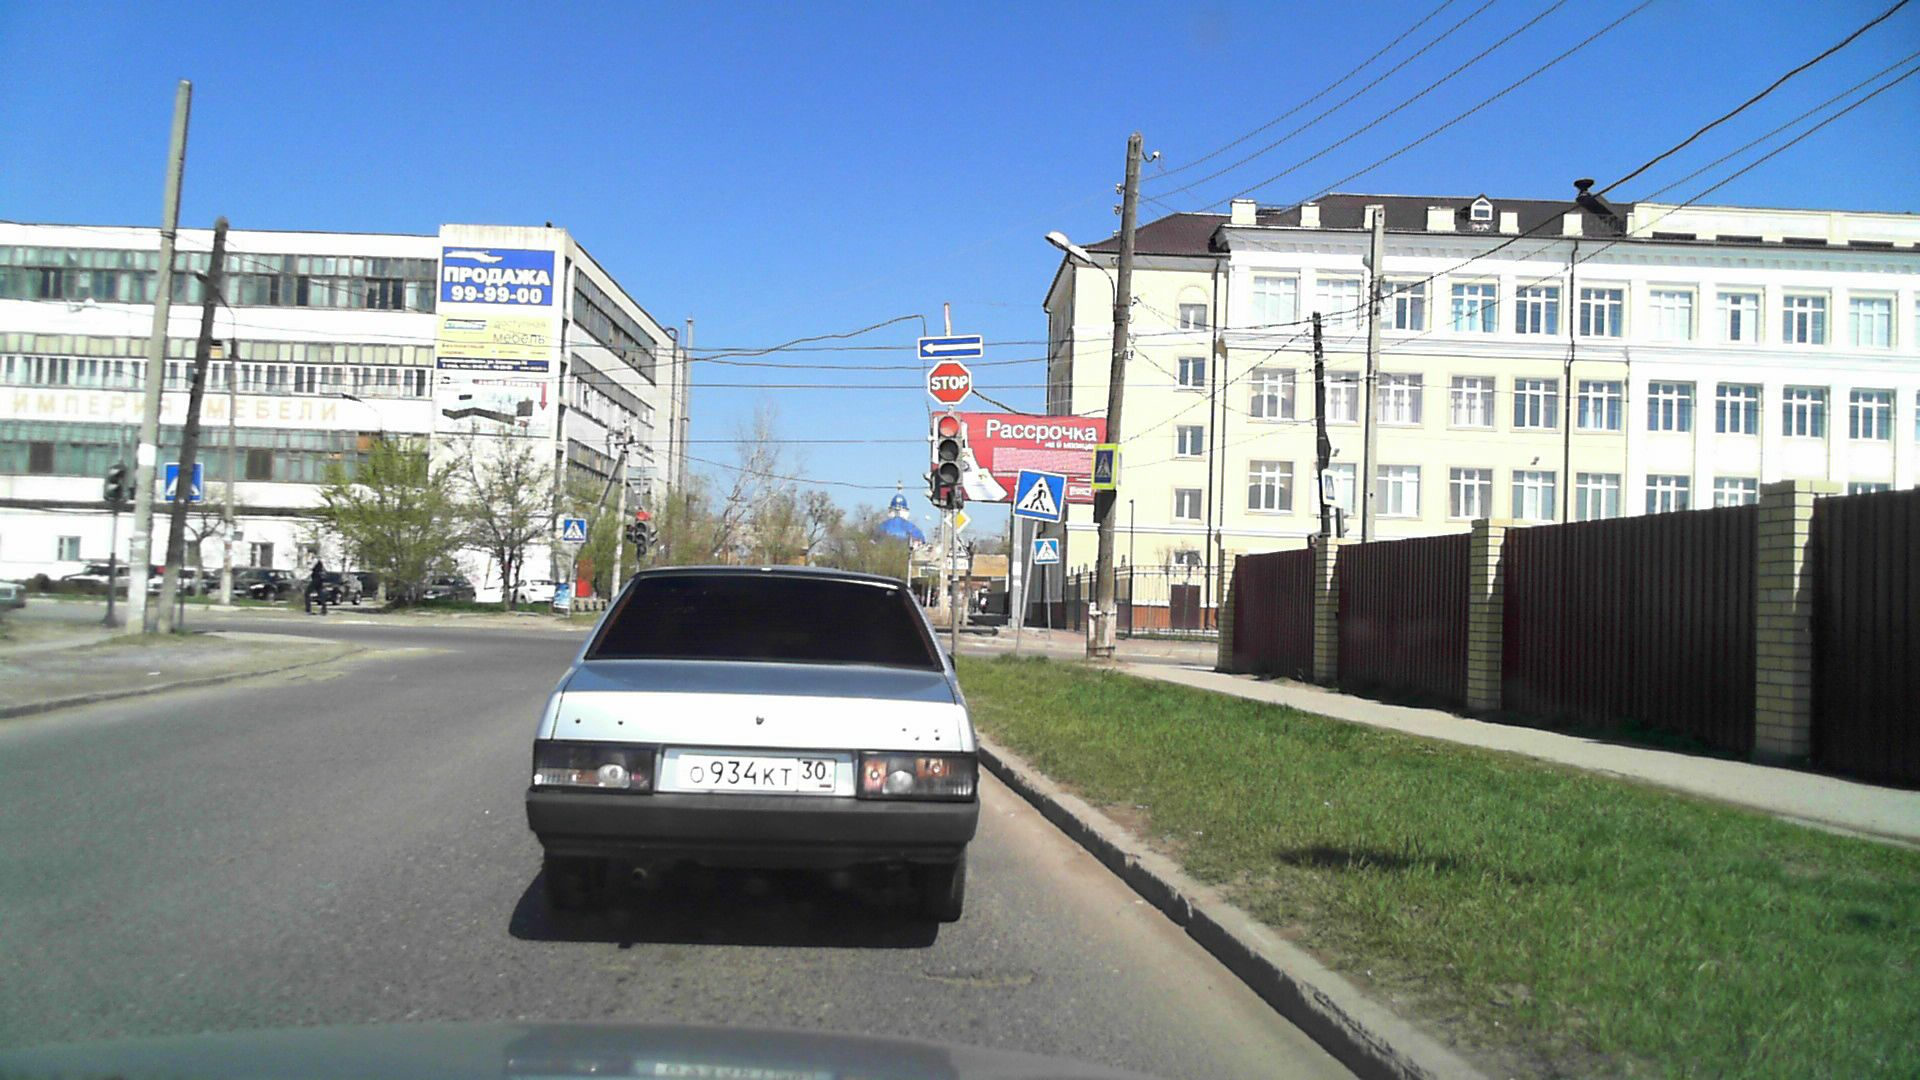One-Way Traffic: (918, 336, 982, 359)
Pedestrian Crossing: (1017, 471, 1062, 521)
